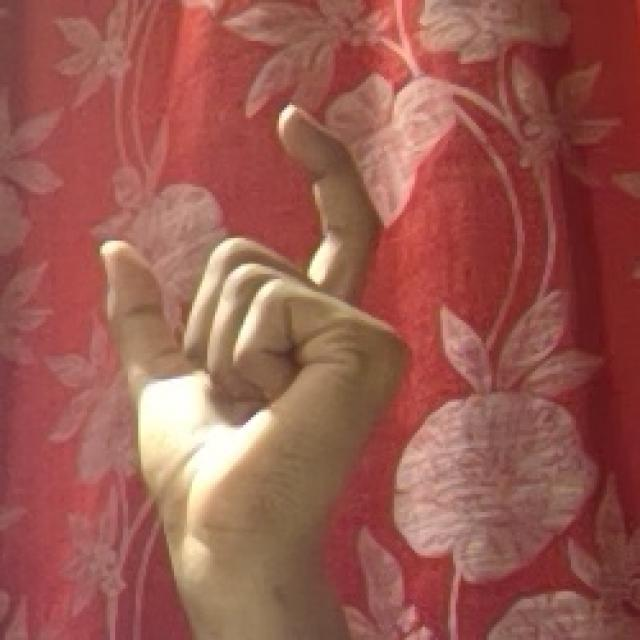Alphabet-U: (92, 81, 508, 624)
